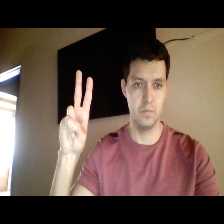KP: (55, 64, 95, 157)
